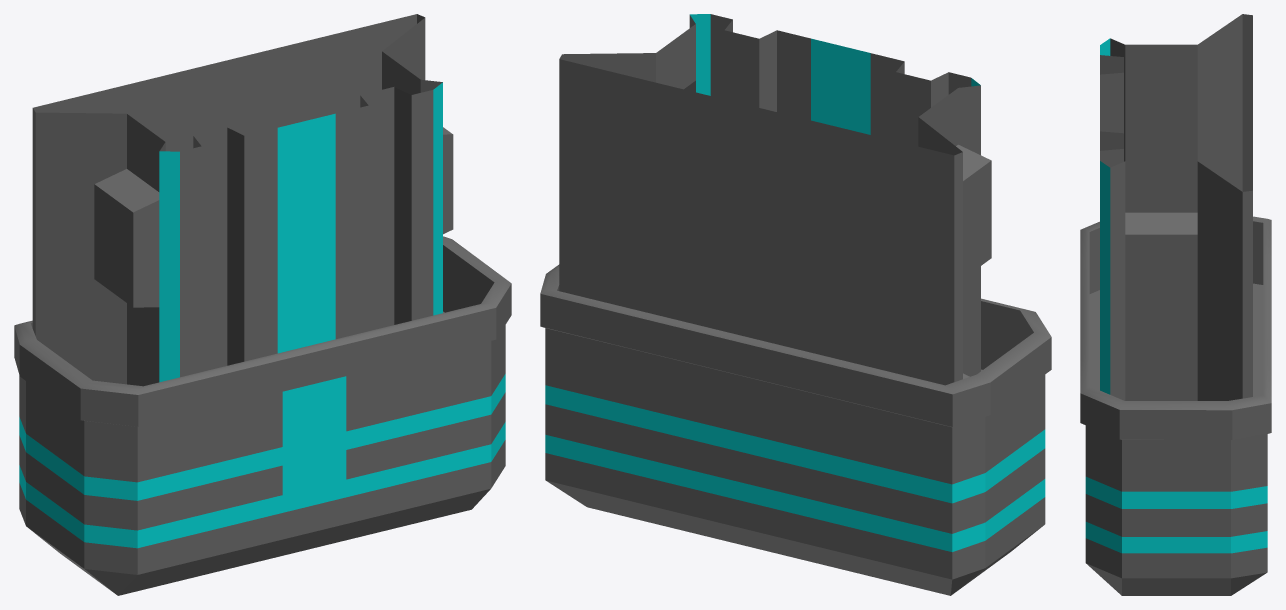
The model's file is gear rail edge.fbx.
The picture shows the model from 3 angles, left to right: view 1: azimuth 30°, elevation 25°; view 2: azimuth 150°, elevation 25°; view 3: azimuth 270°, elevation 25°; orthographic projection. The views are drawn at different scales.
Visible parts, largest first — view 1: rail_edge; view 2: rail_edge; view 3: rail_edge.
Part boxes in pixels (x1,y1,x2,y2): rail_edge: (14, 14, 511, 595); rail_edge: (540, 14, 1051, 595); rail_edge: (1080, 14, 1271, 595).
Bounding box in the file's own units: 10.27 × 10 × 4.21.
